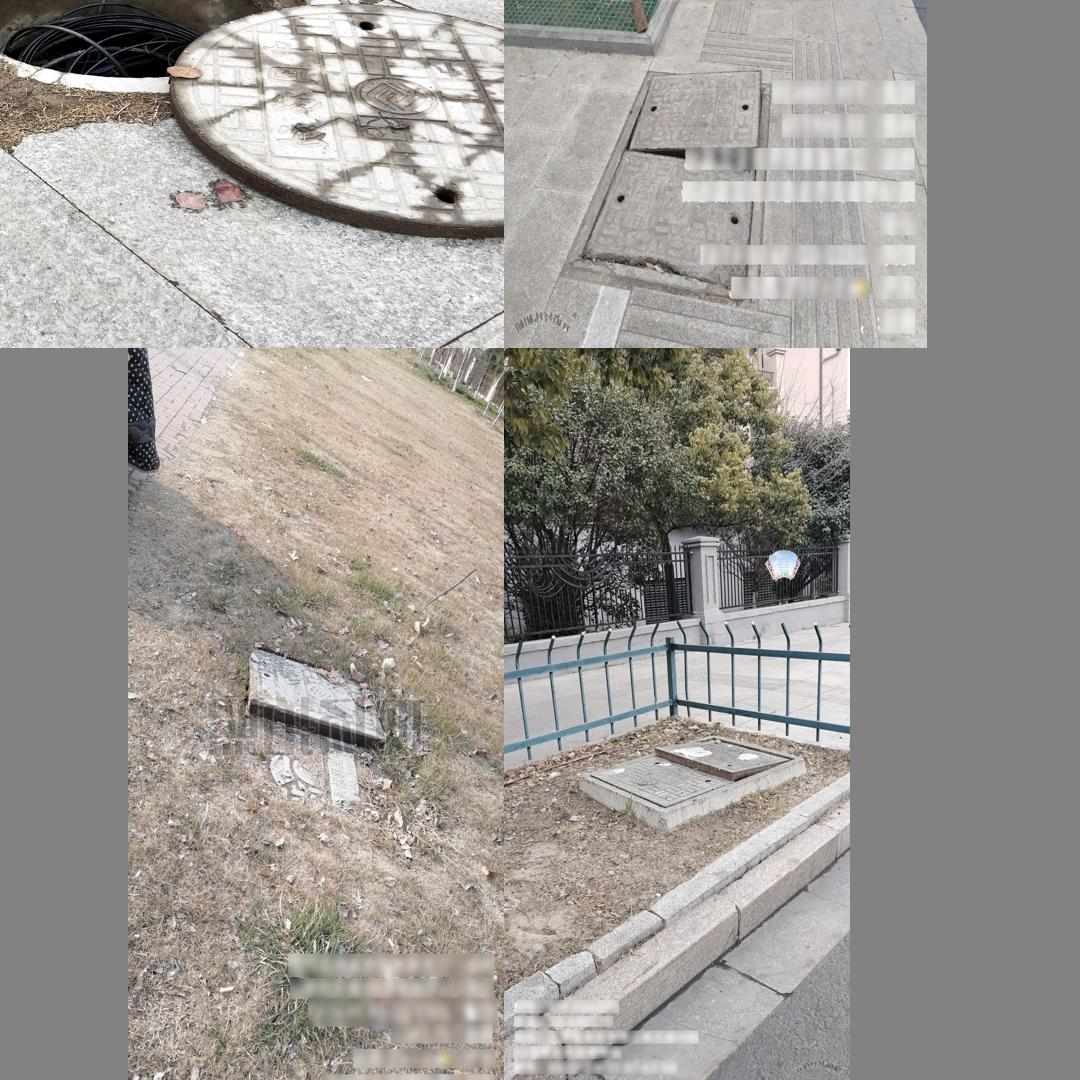uncovered: (0, 0, 500, 236), (557, 66, 775, 307), (577, 735, 805, 827), (220, 638, 395, 749)
